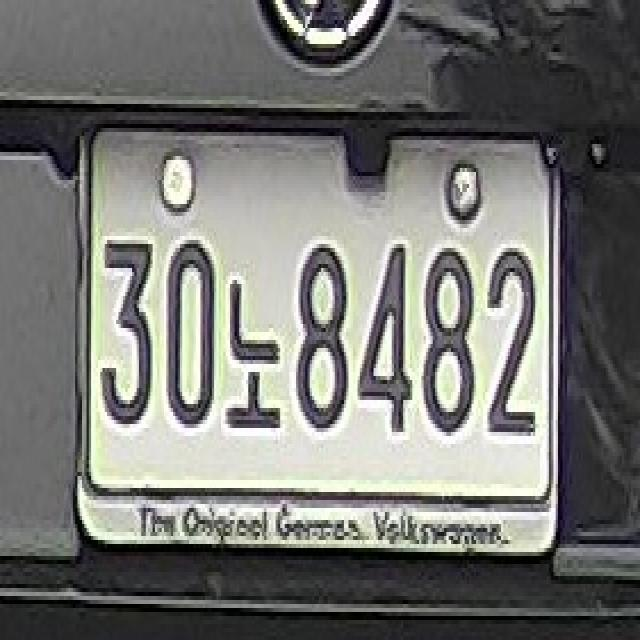0: (164, 232, 216, 428)
2: (485, 244, 538, 440)
3: (102, 236, 155, 428)
4: (360, 240, 414, 436)
8: (296, 240, 351, 432), (421, 244, 474, 436)
license_plate: (77, 112, 558, 512)
no: (225, 272, 282, 432)
